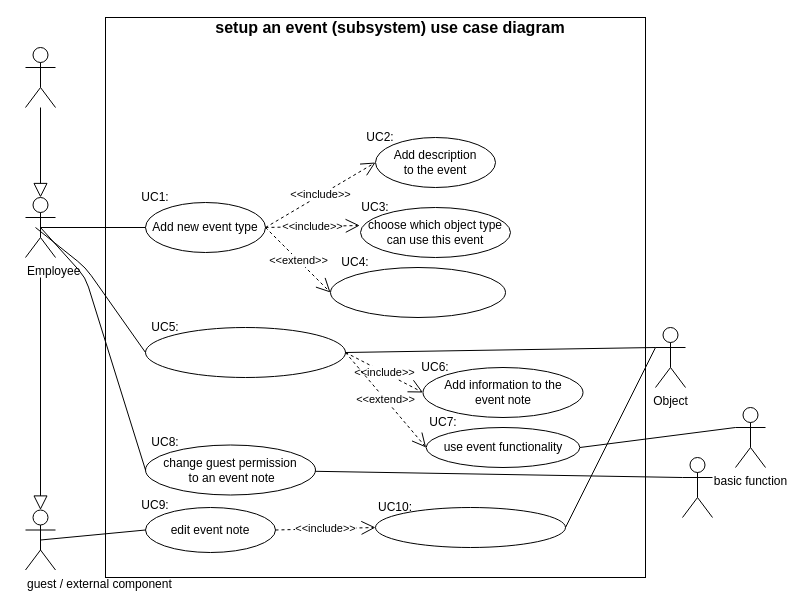
The diagram is 804 pixels wide and 608 high, and some of its shapes have lost their labels. The shapes that lost their labels are listed below. From the top down, each one's box as (x1, y1, x2, y2) in pixels, then its label:
(24, 46, 56, 108): Manager
(330, 266, 506, 318): choose an additional functionality from available functions
(144, 326, 346, 378): Add an active event to an object from existing event types
(682, 456, 712, 518): Account manager
(374, 506, 566, 548): trigger a notification
